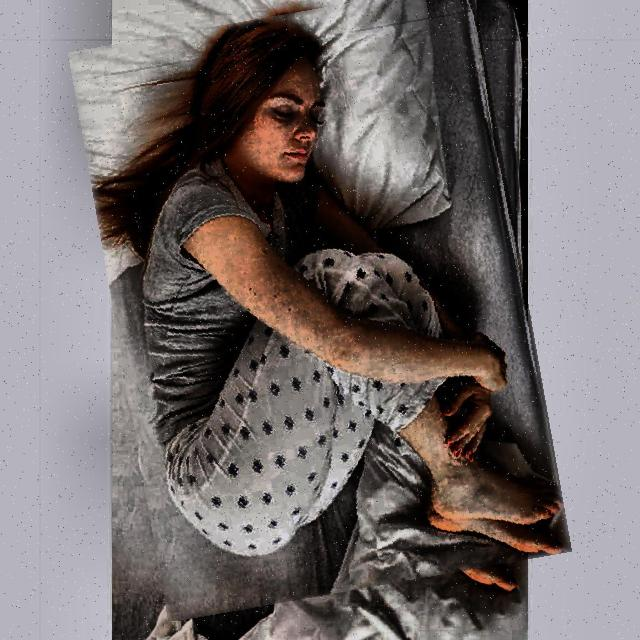Not_Supine: (93, 18, 563, 554)
